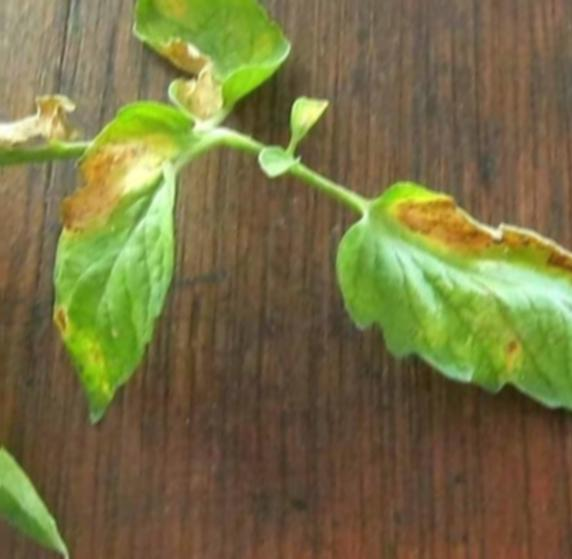Tomato Early blight leaf: (332, 184, 572, 438), (46, 88, 202, 437)
